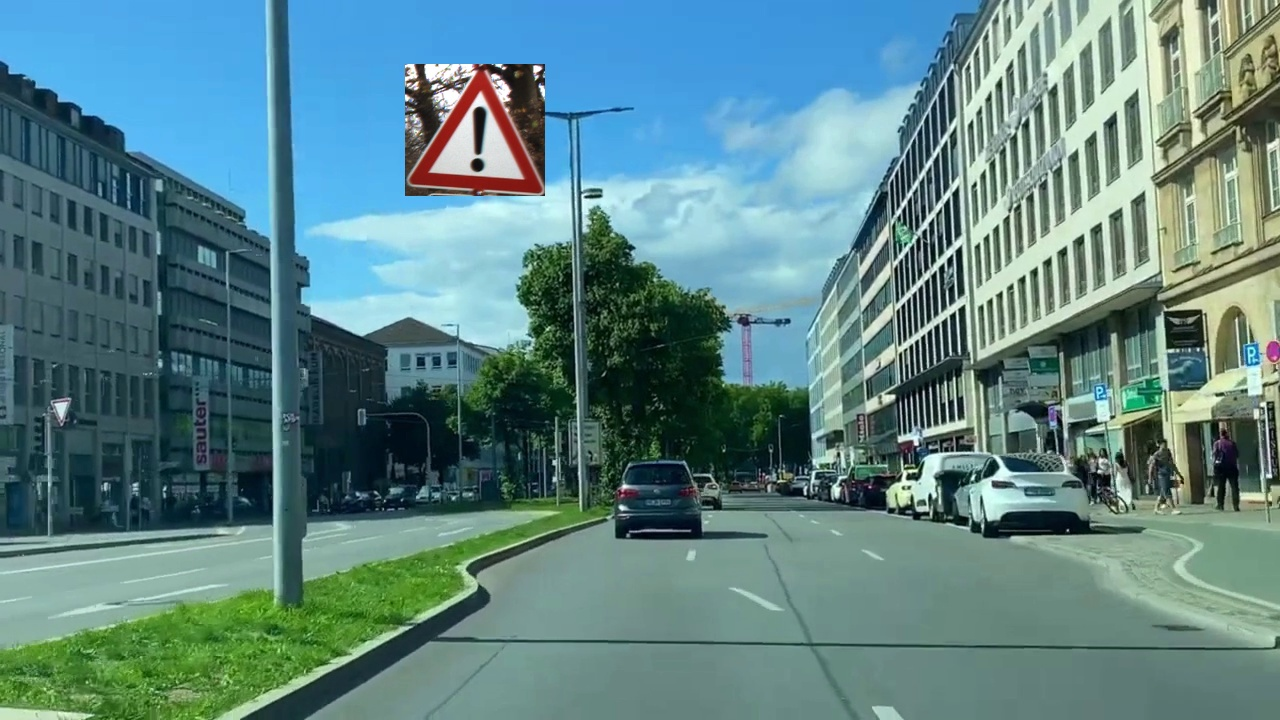Caution: (405, 64, 545, 196)
